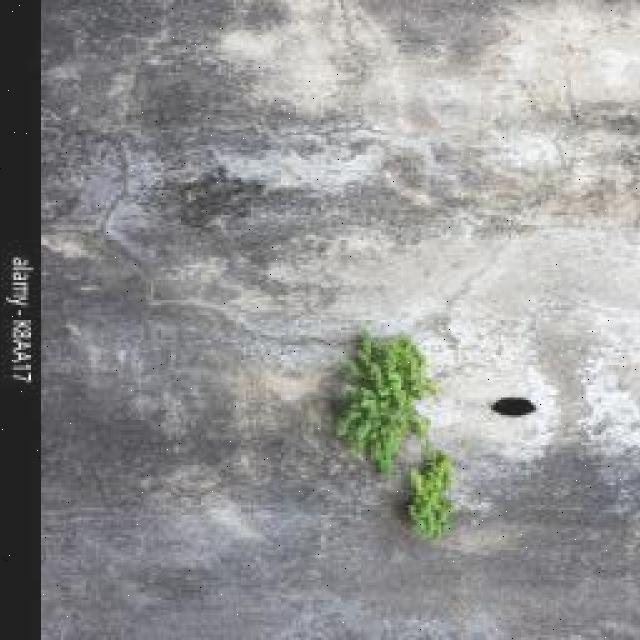crack: (448, 315, 551, 390)
dampness: (46, 24, 635, 322)
vegetation: (328, 327, 458, 540)
